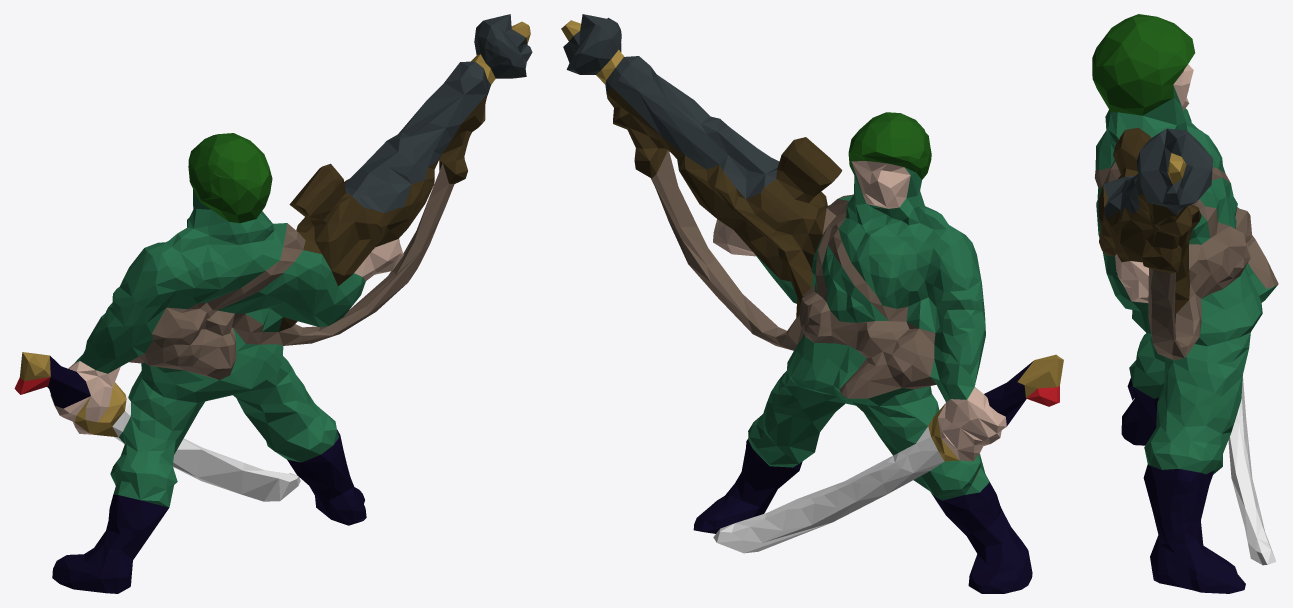
The model's file is sgt_drake_low_poly_colored.glb.
3 renders of one model, left to right at view 1: azimuth 30°, elevation 25°; view 2: azimuth 150°, elevation 25°; view 3: azimuth 270°, elevation 25°, orthographic. The views are drawn at different scales.
Visible parts, largest first — view 1: Sgt._Drake_Alexander_Scanned; view 2: Sgt._Drake_Alexander_Scanned; view 3: Sgt._Drake_Alexander_Scanned.
Boxes of the visible parts, bbox=[...] form: Sgt._Drake_Alexander_Scanned: bbox=[14, 14, 532, 593]; Sgt._Drake_Alexander_Scanned: bbox=[561, 14, 1063, 593]; Sgt._Drake_Alexander_Scanned: bbox=[1092, 14, 1278, 593].
Size of the model in its own units: 2.22 by 1.95 by 0.6165.
